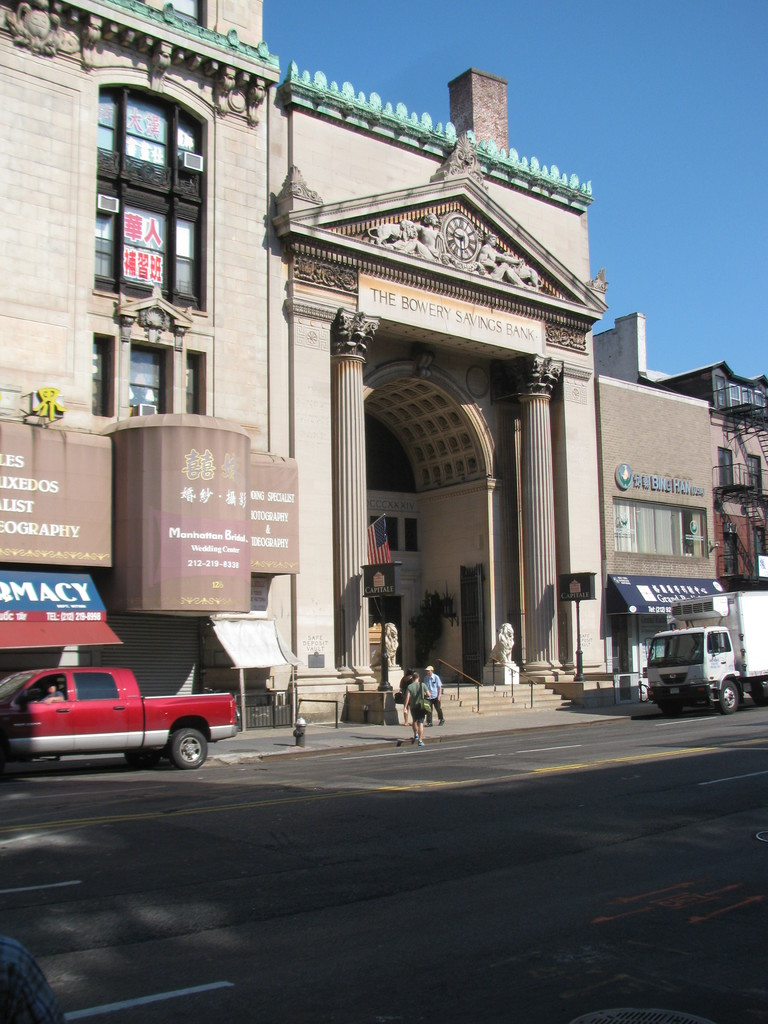car: (1, 636, 272, 785)
truck: (633, 549, 768, 732)
